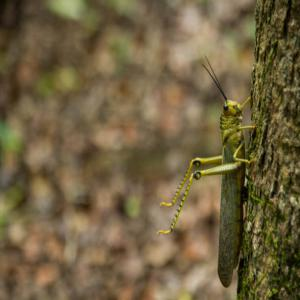locust: (181, 48, 268, 294)
